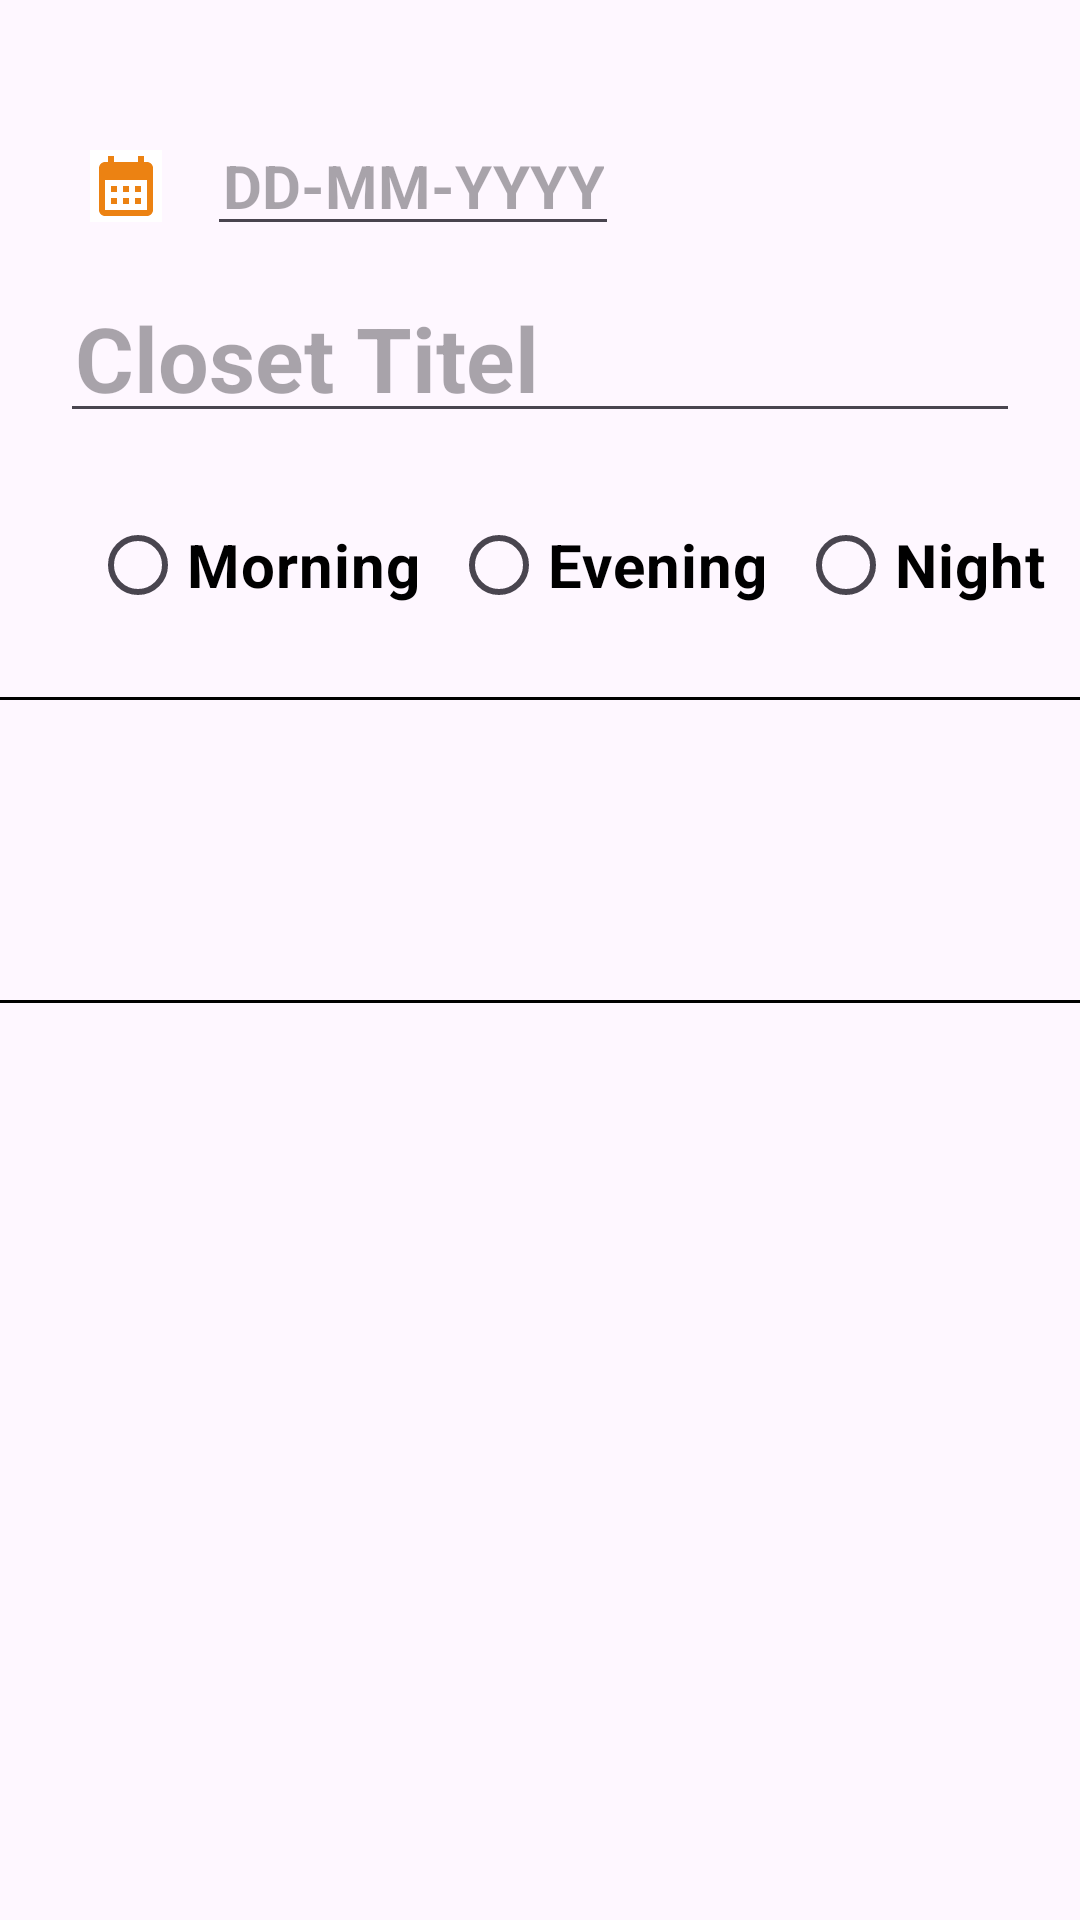

Icon bounding boxes for this 1080x1920 phone screenshot, format (left=x1, top=y1, right=x2, bottom=y2):
calendar: (left=99, top=156, right=153, bottom=216)
